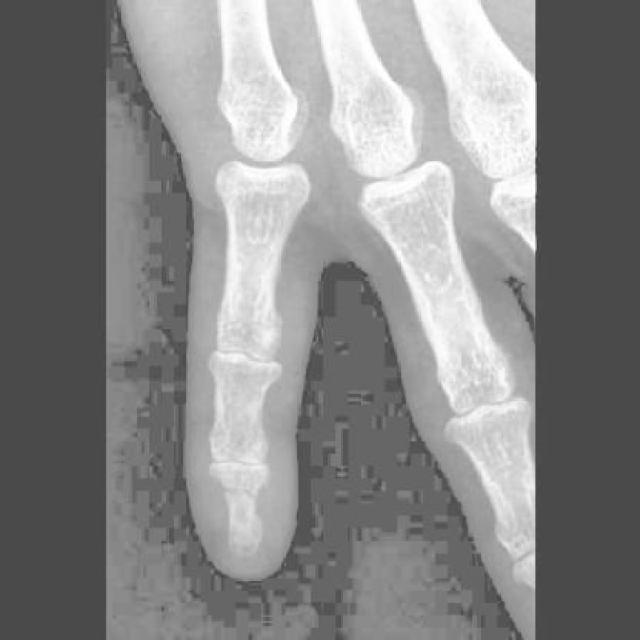Fracture: (217, 485, 262, 507)
